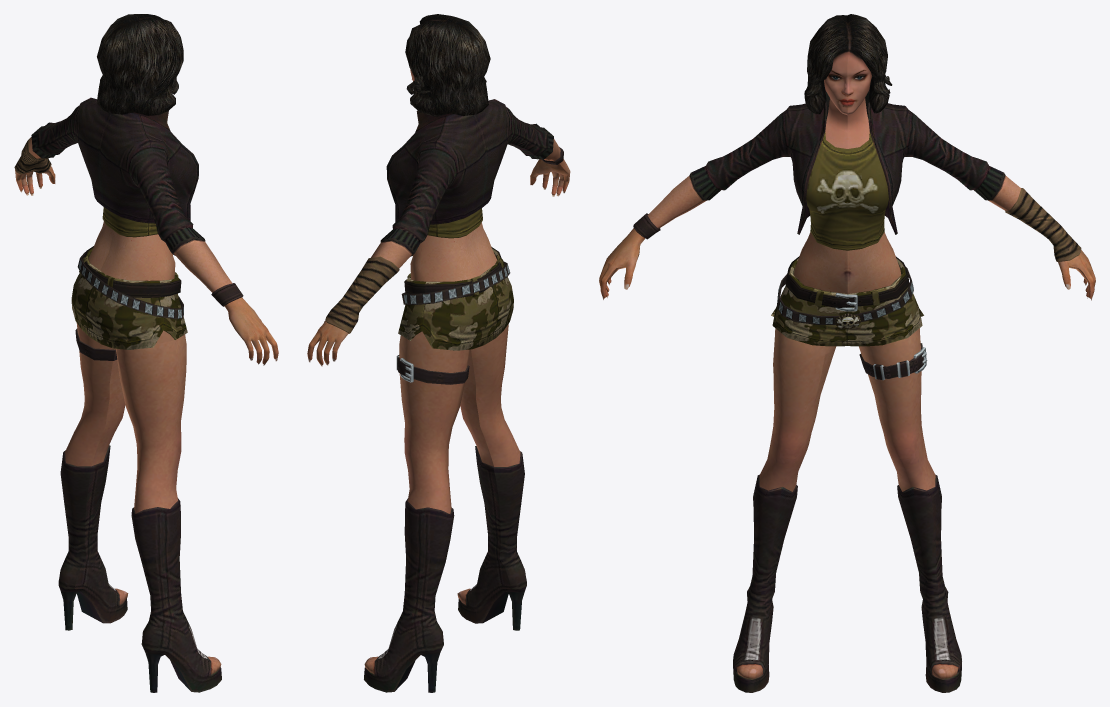
The model's file is Hung.FBX.
3 views of the same model, side by side, from view 1: azimuth 30°, elevation 25°; view 2: azimuth 150°, elevation 25°; view 3: azimuth 270°, elevation 25° (orthographic). The views are drawn at different scales.
Parts seen in each view (by area): view 1: Hung; view 2: Hung; view 3: Hung.
Boxes of the visible parts, x1,y1,x2,y2 form: Hung: [14, 14, 278, 692]; Hung: [307, 14, 570, 692]; Hung: [599, 14, 1095, 692].
Bounding box in the file's own units: 15.06 × 94.16 × 64.45.
